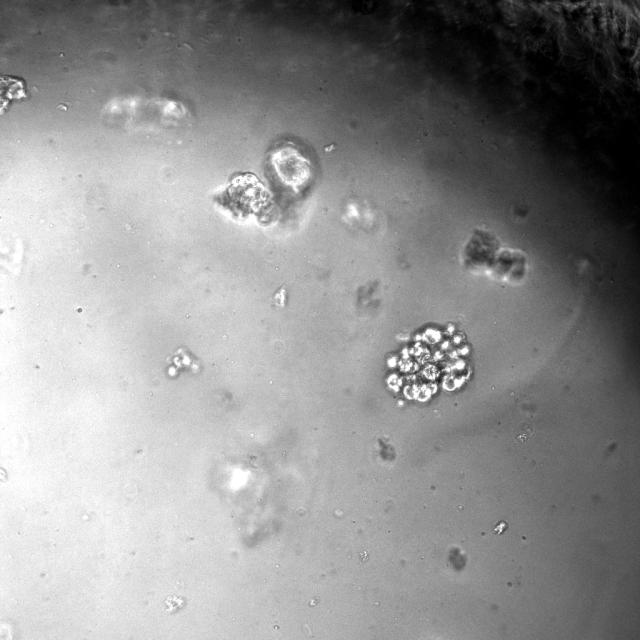organoid: (211, 134, 320, 232), (385, 323, 472, 403), (461, 229, 528, 282), (164, 347, 202, 379), (0, 75, 27, 115), (164, 594, 186, 614)
